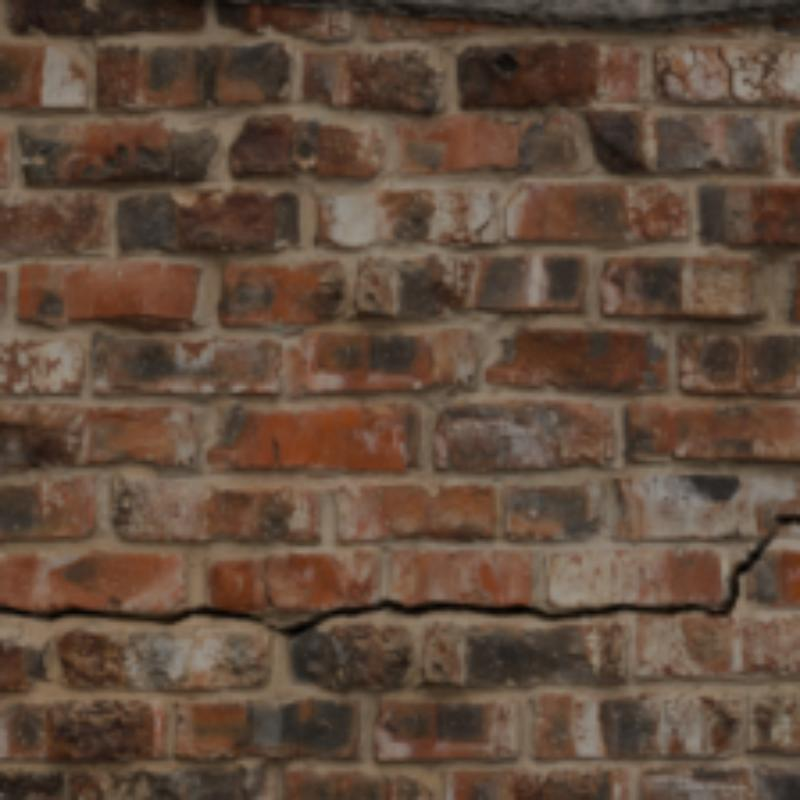pothole: (0, 514, 796, 636), (721, 57, 739, 104), (261, 557, 271, 607), (475, 218, 493, 232), (718, 46, 721, 57)
